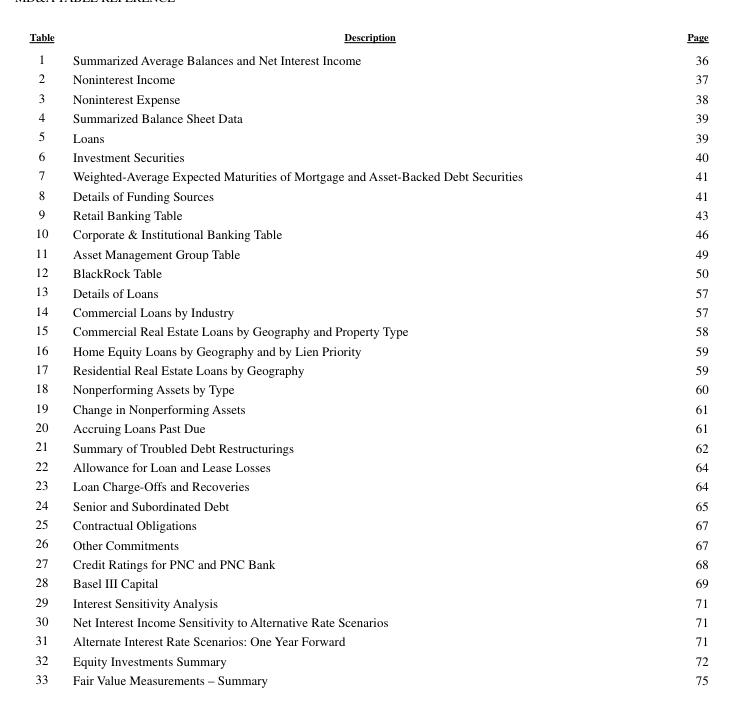table: (28, 29, 707, 687)
table column: (62, 29, 604, 687), (604, 29, 707, 687), (28, 29, 62, 687)
table column header: (28, 29, 707, 46)
table row: (28, 46, 707, 68), (28, 106, 707, 126), (28, 145, 707, 165), (28, 203, 707, 223), (28, 261, 707, 281), (28, 300, 707, 320), (28, 358, 707, 378), (28, 416, 707, 436), (28, 455, 707, 475), (28, 513, 707, 533), (28, 552, 707, 572), (28, 610, 707, 630), (28, 68, 707, 87), (28, 87, 707, 106), (28, 126, 707, 145), (28, 165, 707, 184), (28, 184, 707, 203), (28, 223, 707, 242), (28, 242, 707, 261), (28, 281, 707, 300), (28, 320, 707, 339), (28, 339, 707, 358), (28, 378, 707, 397), (28, 397, 707, 416), (28, 436, 707, 455), (28, 475, 707, 494), (28, 494, 707, 513), (28, 533, 707, 552), (28, 572, 707, 591), (28, 591, 707, 610), (28, 630, 707, 649), (28, 649, 707, 668), (28, 668, 707, 687), (28, 29, 707, 46)
